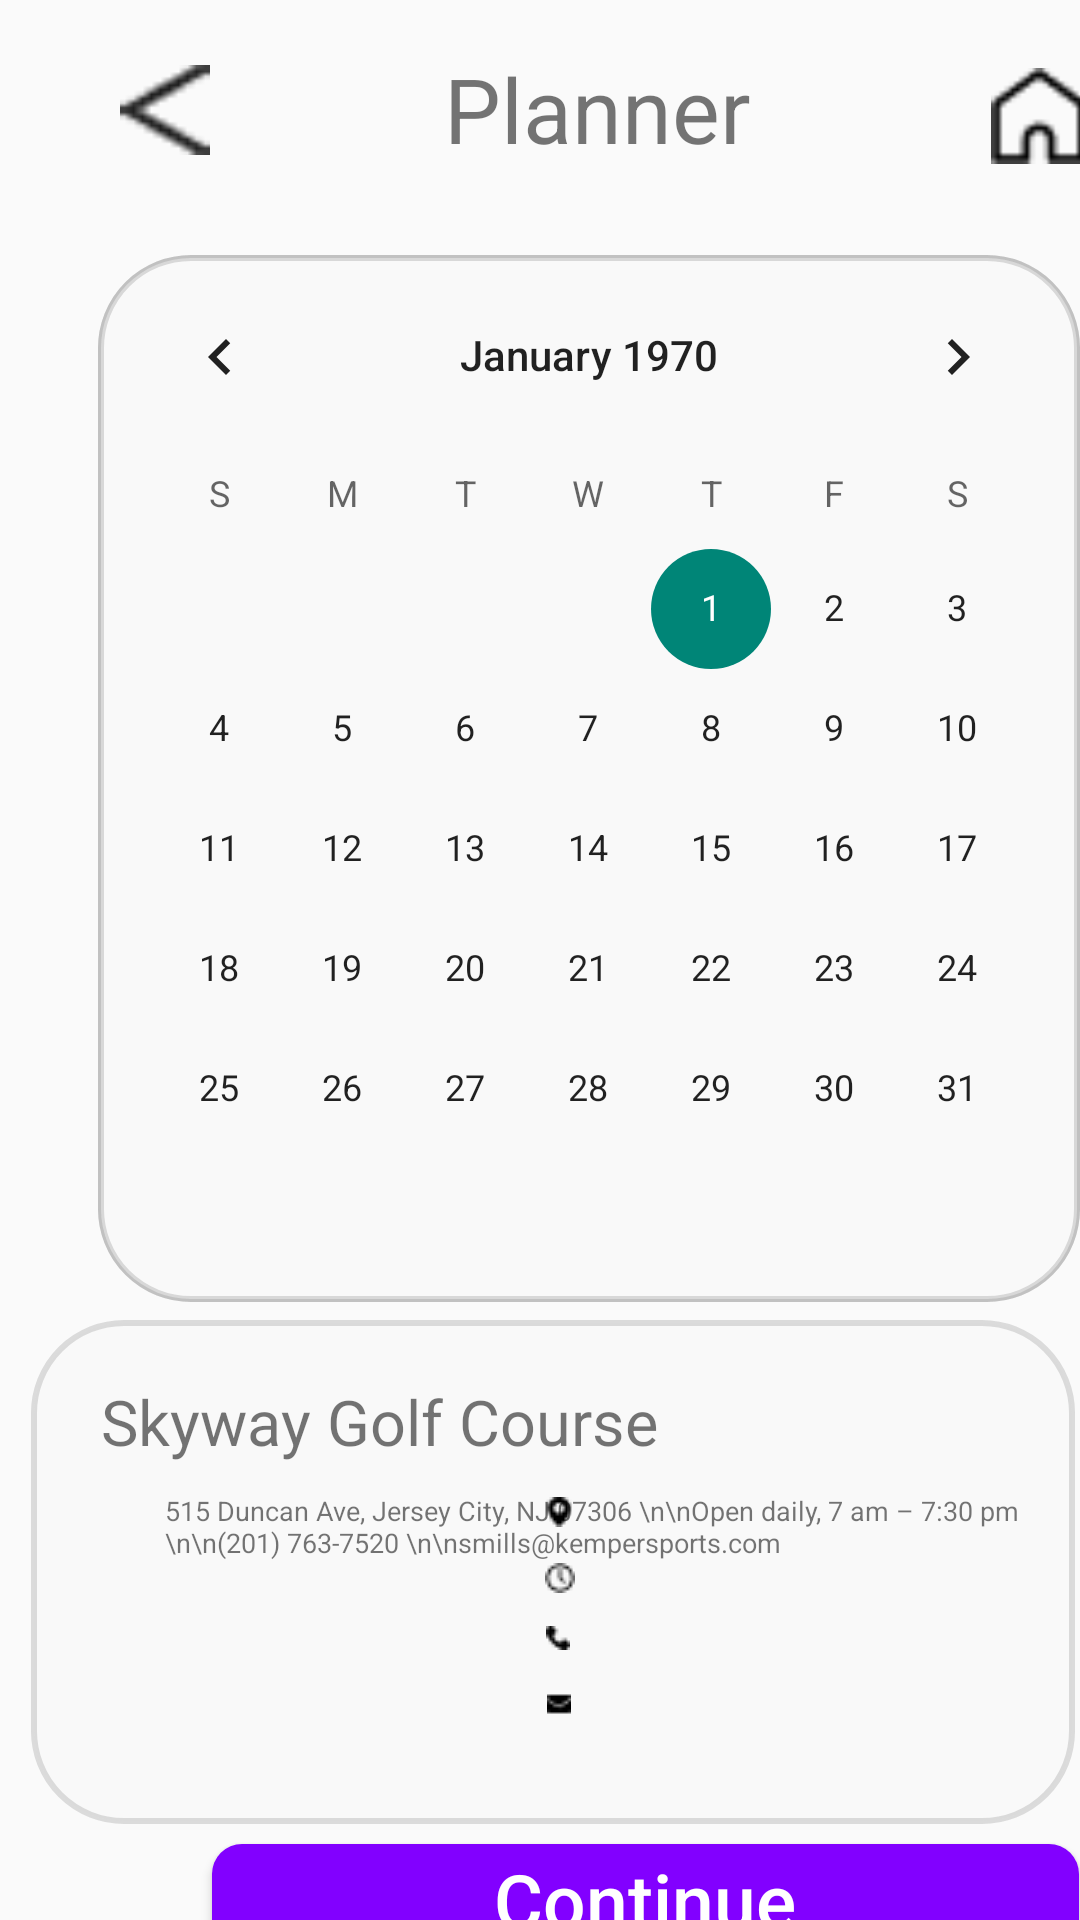

Icon bounding boxes for this 1080x1920 phone screenshot, format Rect(x1, y1, x2, y2):
clock: Rect(545, 1563, 575, 1593)
email: Rect(547, 1694, 571, 1714)
home: Rect(991, 68, 1080, 164)
phone call: Rect(546, 1626, 570, 1650)
